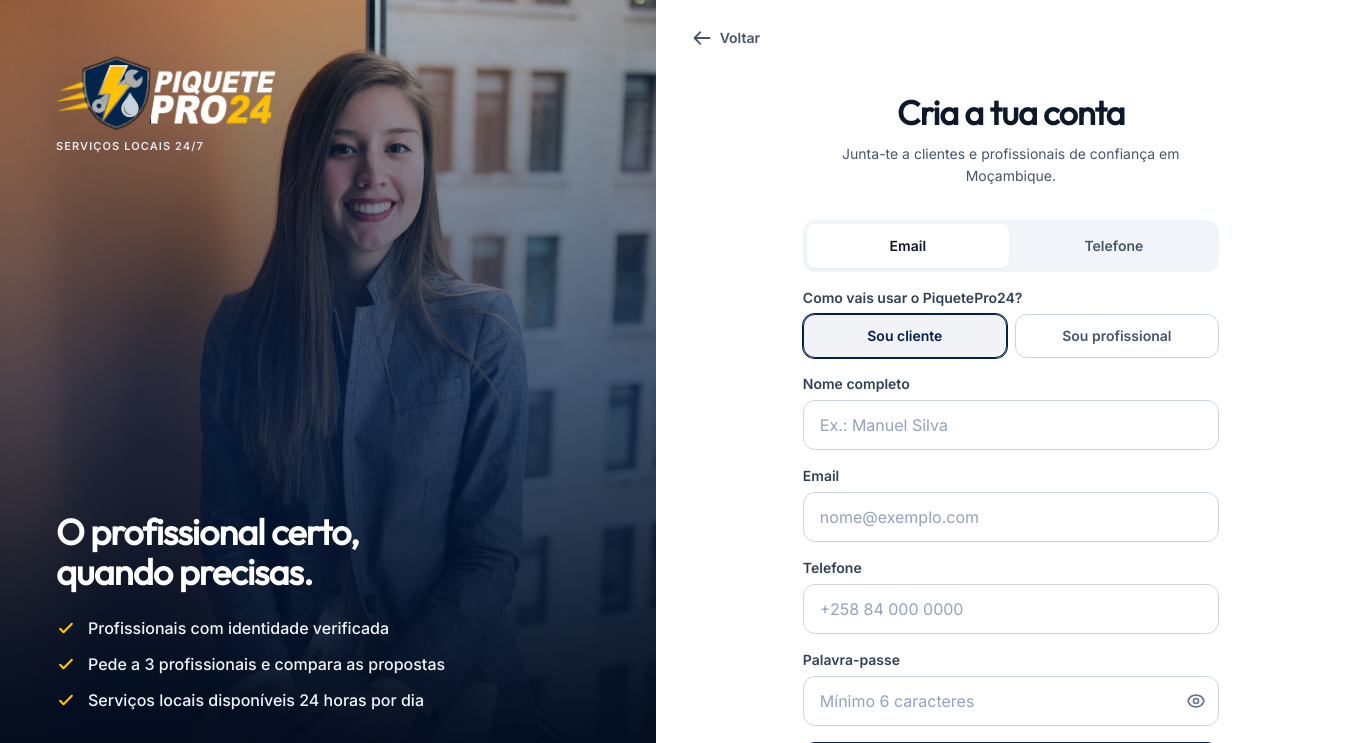
Test: Login — envio › criar conta envia o papel e o nome nos metadados
The image size is (1366, 743).
Click the radio button labelled "Sou profissional" at (1117, 336), box [1015,314,1219,358]
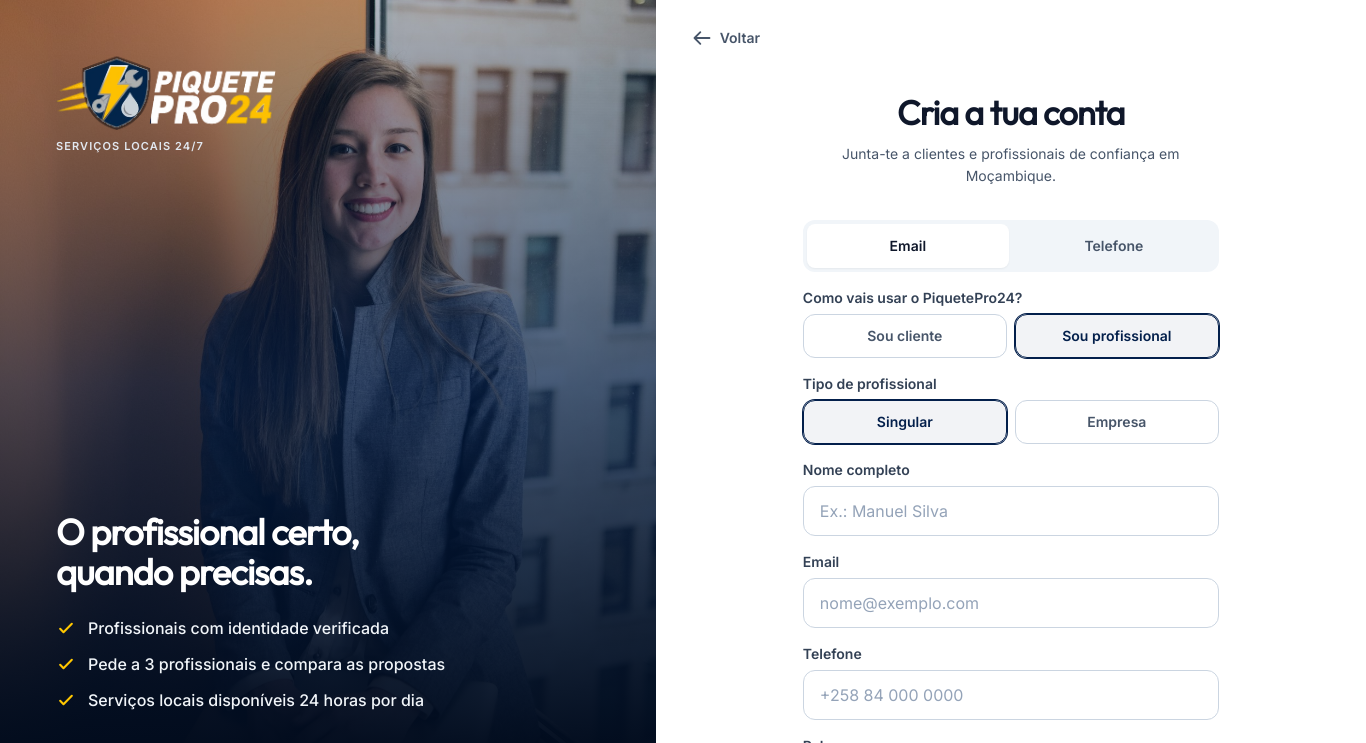
Type "Carlos Macamo" into the field labelled "Nome completo" at (1011, 511), box [804,487,1218,535]
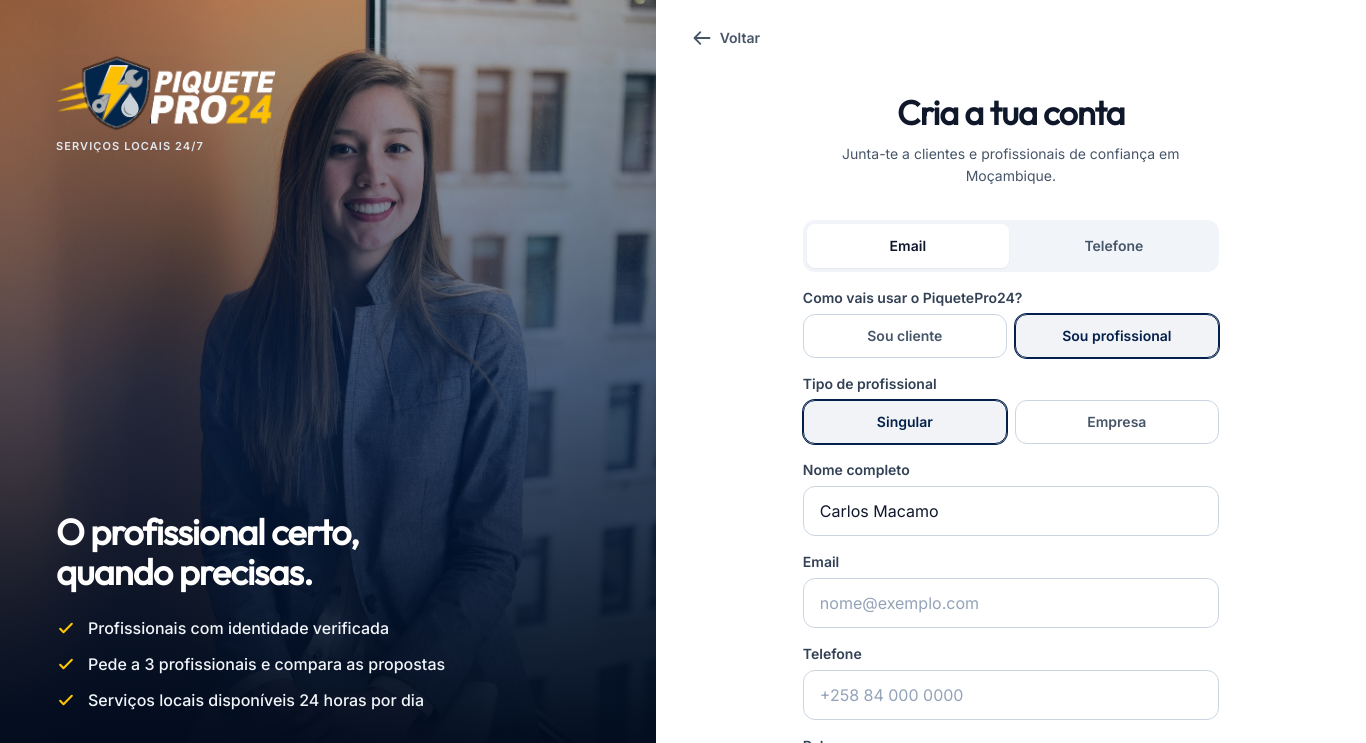
Type "carlos@exemplo.com" into the field labelled "Email" at (1011, 603), box [804,579,1218,627]
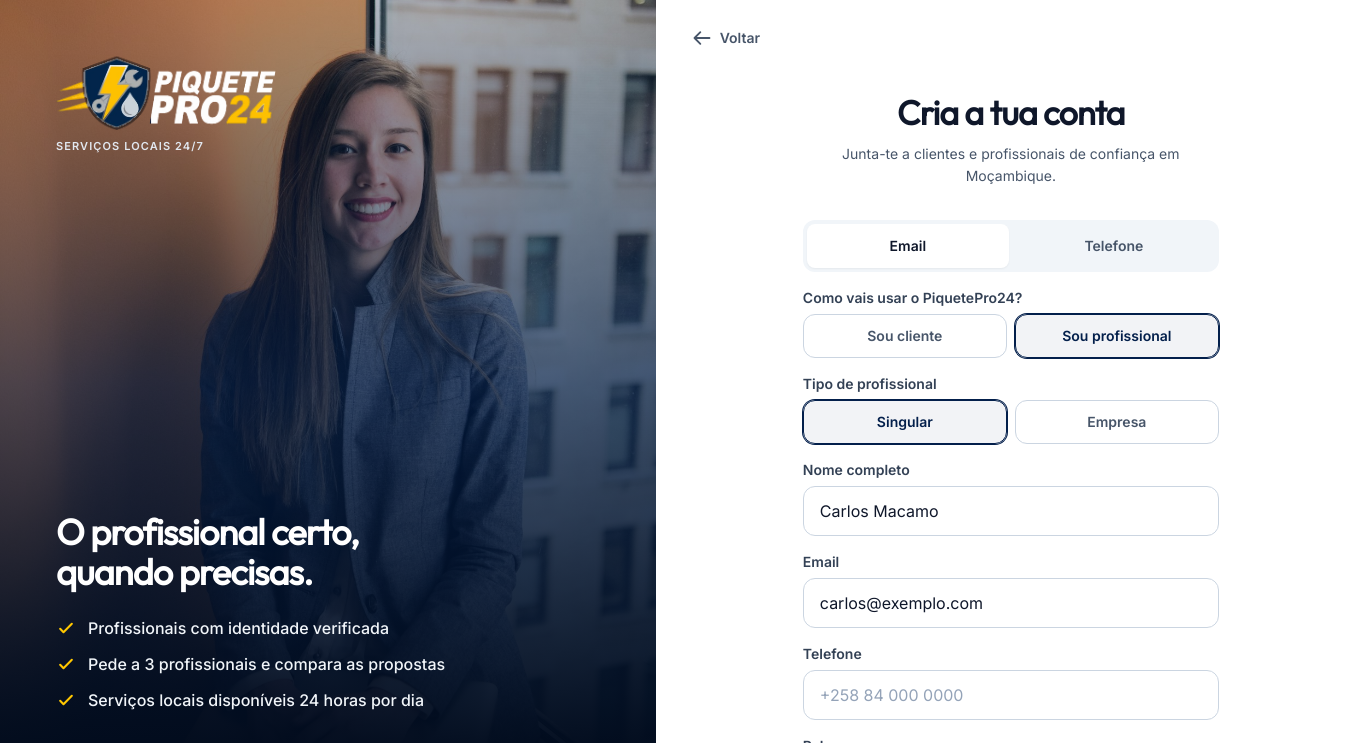
Type "+258841234567" into the field labelled "Telefone" at (1011, 695), box [804,671,1218,719]
(page scrolled)
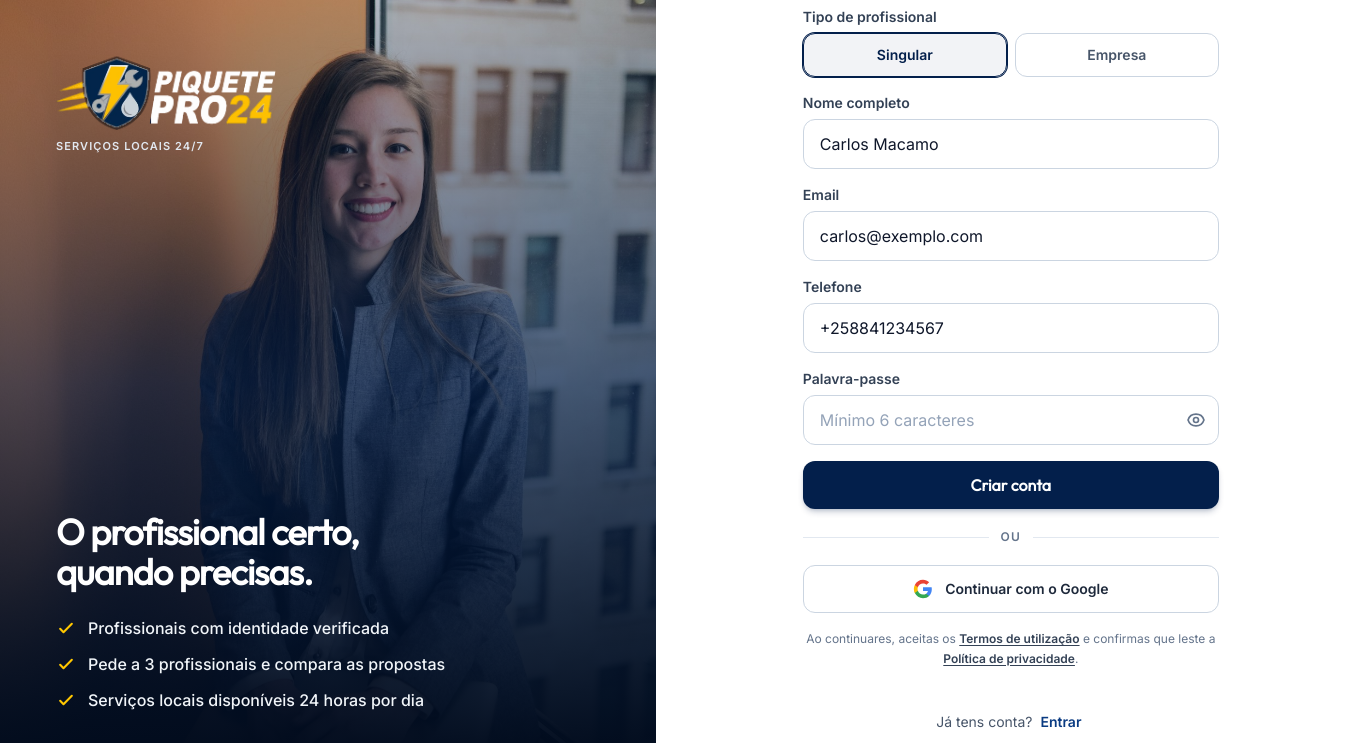
Type "segredo1" into the password field labelled "Palavra-passe" at (1011, 420), box [804,396,1218,444]
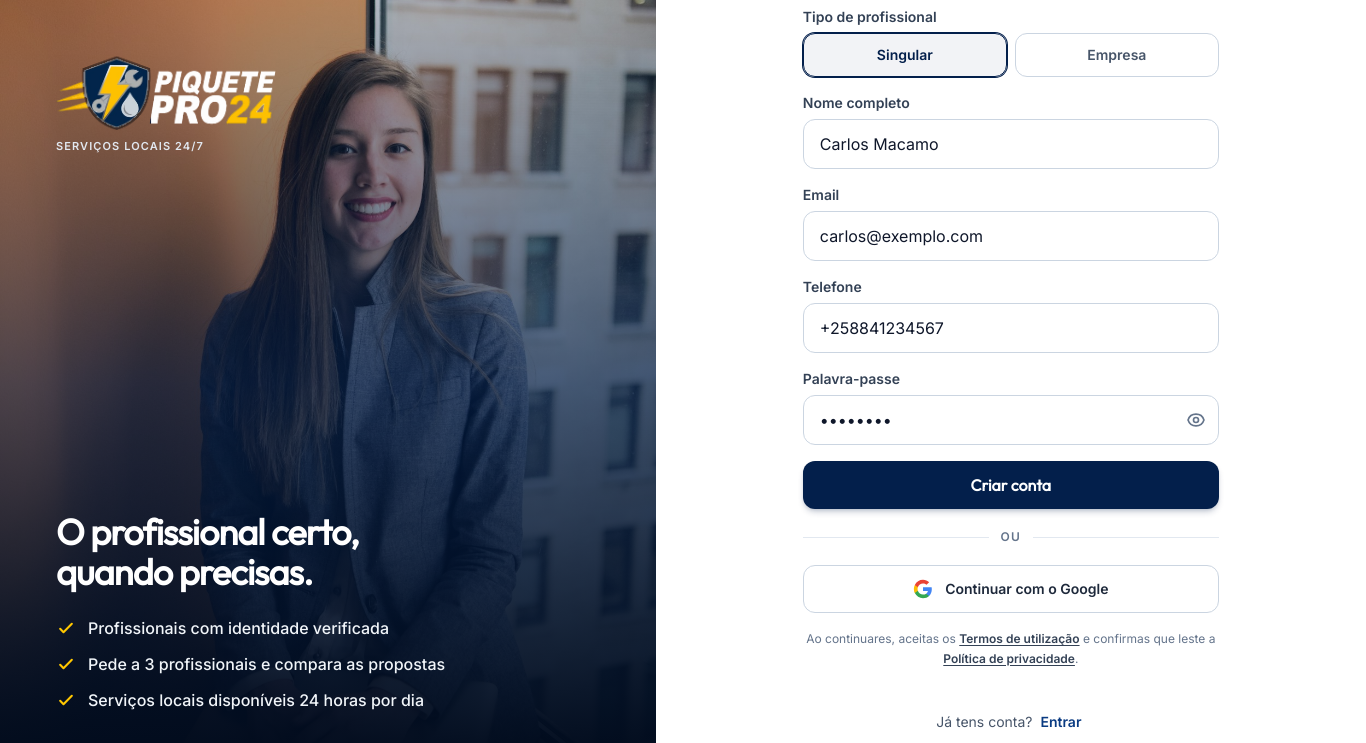
Submit the form labelled "Nome completo", box [803,93,1219,509]
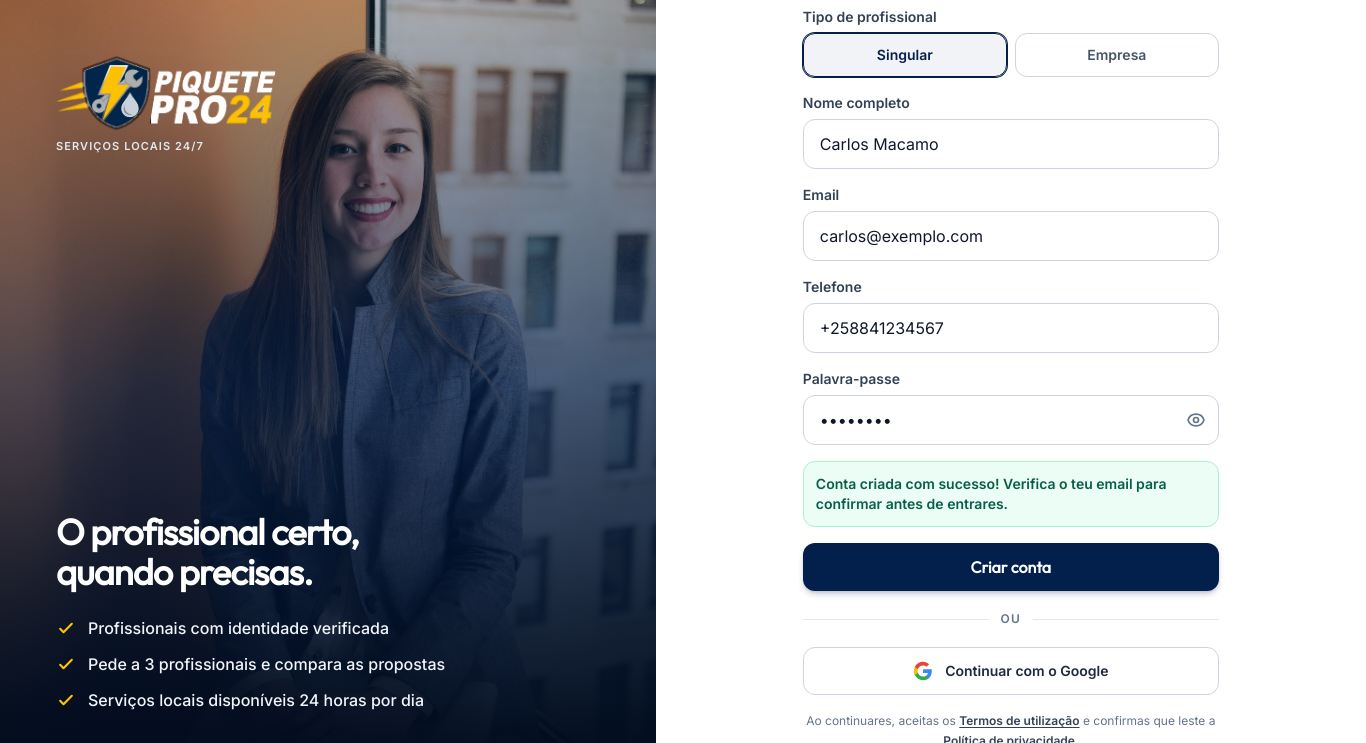
Result: the message shows "Verifica o teu email" at [816,475,1166,512]
